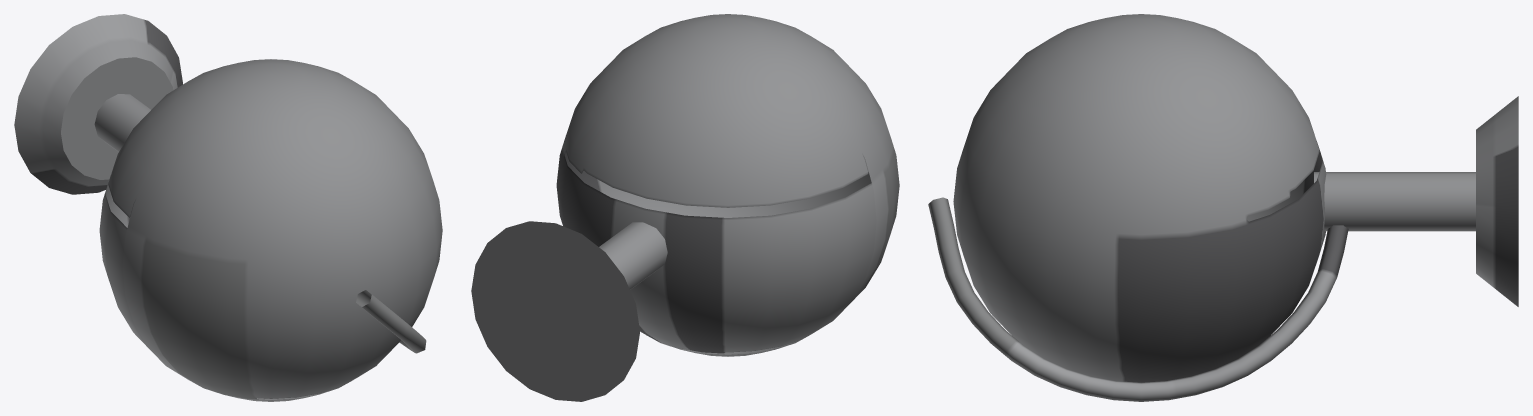
The picture shows the model from 3 angles, left to right: view 1: azimuth 30°, elevation 25°; view 2: azimuth 150°, elevation 25°; view 3: azimuth 270°, elevation 25°; orthographic projection. The views are drawn at different scales.
Bounding box in the file's own units: 0.44 × 0.44 × 0.6916.
